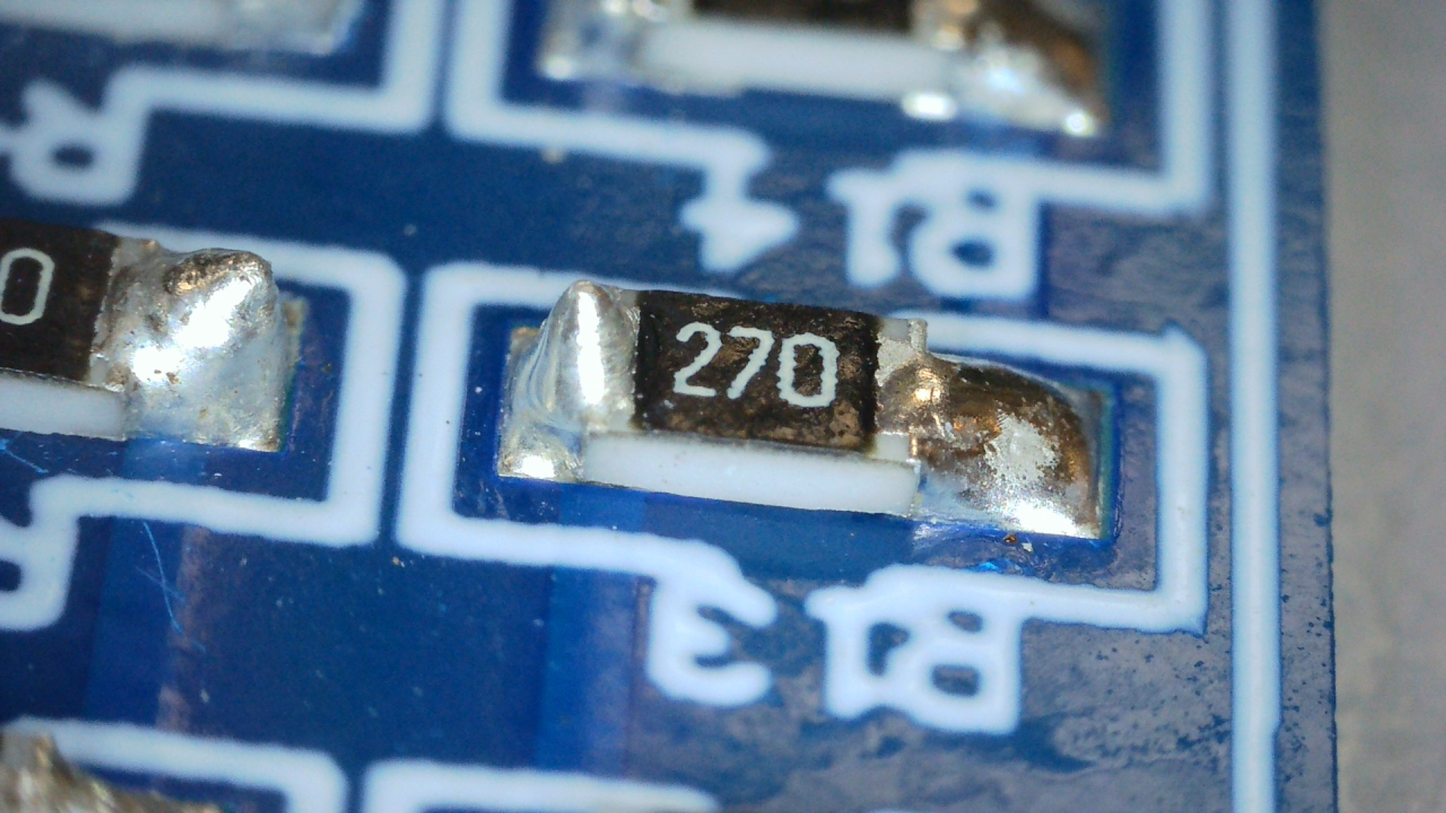NG: (872, 317, 1101, 540), (519, 280, 638, 433)
